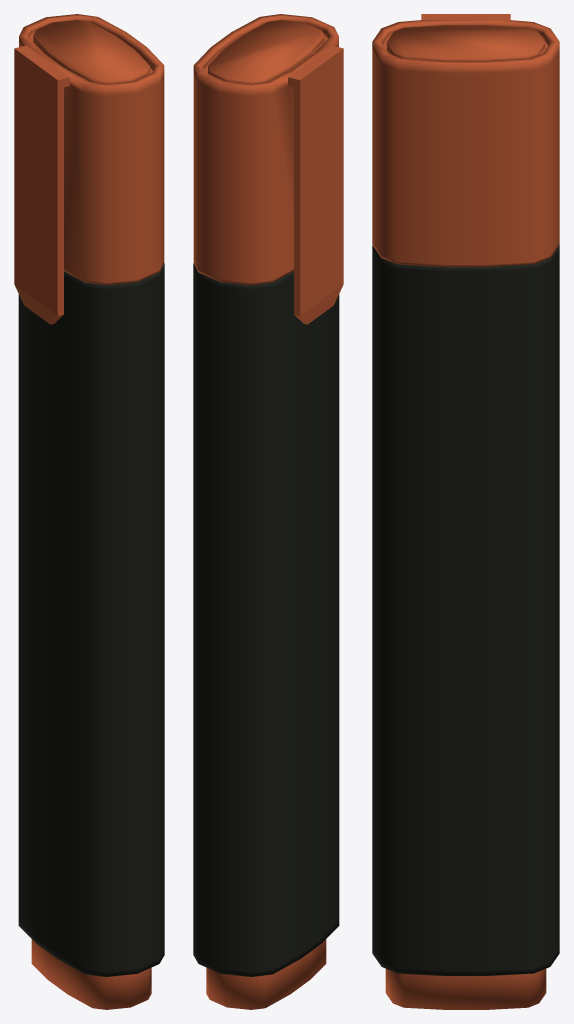
Rendered from TextMarker.fbx.
The picture shows the model from 3 angles, left to right: view 1: azimuth 30°, elevation 25°; view 2: azimuth 150°, elevation 25°; view 3: azimuth 270°, elevation 25°; orthographic projection. The views are drawn at different scales.
Parts seen in each view (by area): view 1: TextMarker, TextMarkerCap2; view 2: TextMarker, TextMarkerCap2; view 3: TextMarker, TextMarkerCap2.
Part boxes in pixels (x1=…): TextMarker: x1=18, y1=263, x2=164, y2=1009; TextMarkerCap2: x1=14, y1=14, x2=164, y2=324; TextMarker: x1=193, y1=263, x2=339, y2=1009; TextMarkerCap2: x1=193, y1=14, x2=343, y2=324; TextMarker: x1=372, y1=245, x2=559, y2=1009; TextMarkerCap2: x1=372, y1=14, x2=559, y2=267.
Size of the model in its own units: 1.14 by 10.07 by 1.8.
